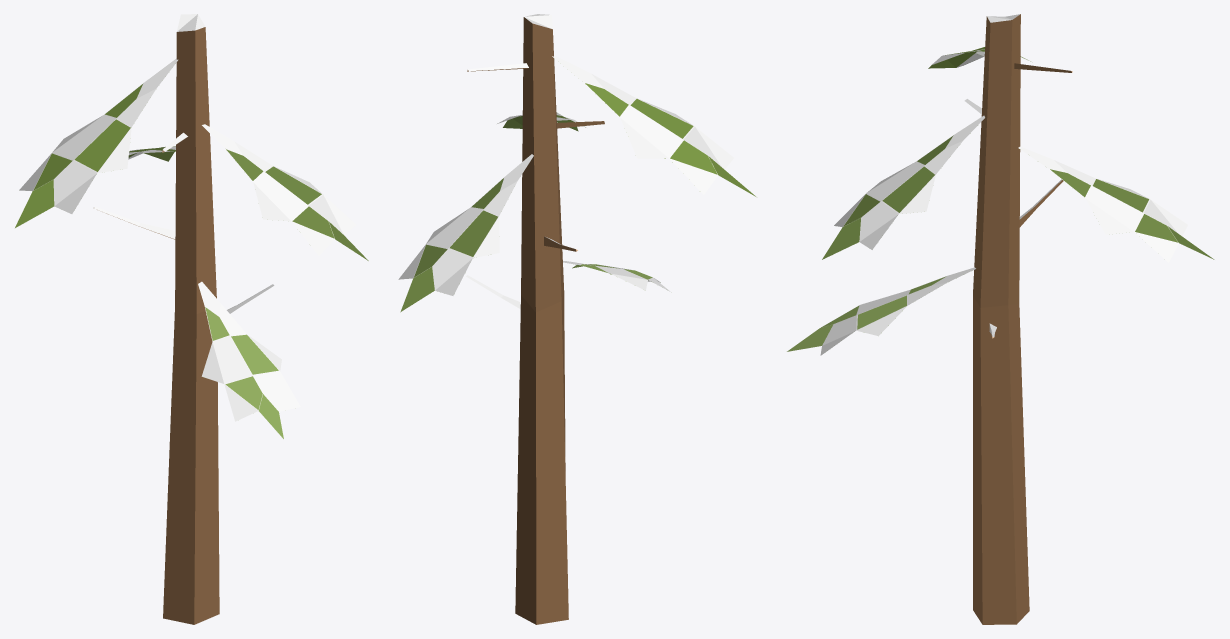
Rendered from Dead_Pine_Tree_crk_l_Snow_01.fbx.
The picture shows the model from 3 angles, left to right: view 1: azimuth 30°, elevation 25°; view 2: azimuth 150°, elevation 25°; view 3: azimuth 270°, elevation 25°; orthographic projection.
Parts seen in each view (by area): view 1: Dead_Pine_Tree_crk_l_Snow_01; view 2: Dead_Pine_Tree_crk_l_Snow_01; view 3: Dead_Pine_Tree_crk_l_Snow_01.
Part boxes in pixels (x1,y1,x2,y2): Dead_Pine_Tree_crk_l_Snow_01: (15, 14, 368, 624); Dead_Pine_Tree_crk_l_Snow_01: (398, 14, 756, 624); Dead_Pine_Tree_crk_l_Snow_01: (787, 14, 1214, 624).
Bounding box in the file's own units: 415 × 788 × 509.
